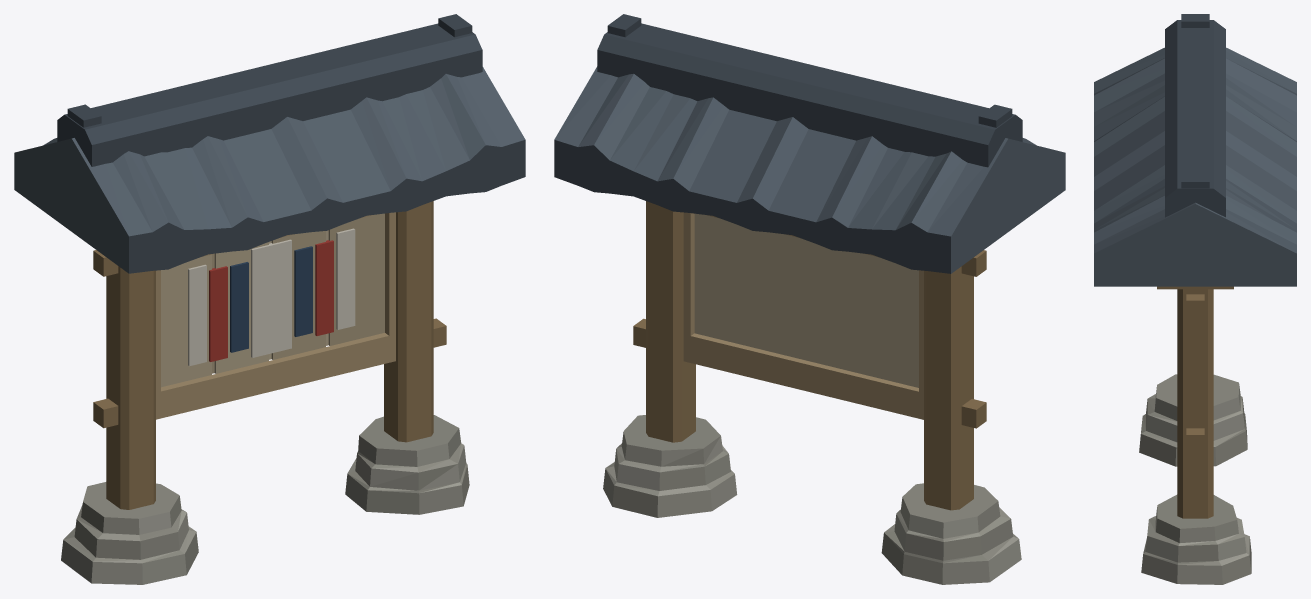
Rendered from kosatsu-notice-board-c9d276.glb.
The picture shows the model from 3 angles, left to right: view 1: azimuth 30°, elevation 25°; view 2: azimuth 150°, elevation 25°; view 3: azimuth 270°, elevation 25°; orthographic projection. The views are drawn at different scales.
Visible parts, largest first — view 1: kosatsu-body, notice-main; view 2: kosatsu-body; view 3: kosatsu-body.
Part boxes in pixels (<box>): kosatsu-body: <box>14,14,525,584</box>; notice-main: <box>251,239,291,357</box>; kosatsu-body: <box>554,14,1065,584</box>; kosatsu-body: <box>1094,14,1296,584</box>.
Bounding box in the file's own units: 2 × 2.2 × 1.
